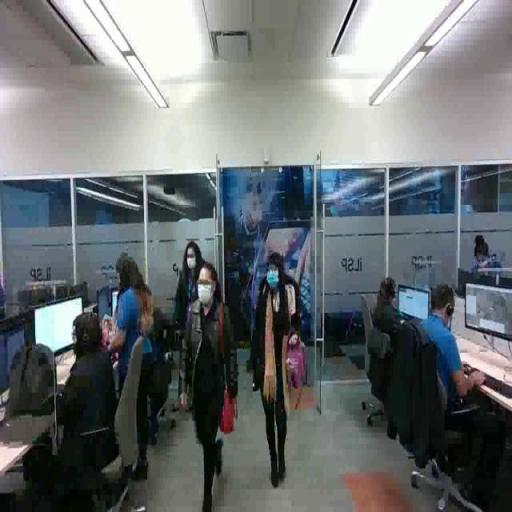person: (47, 312, 123, 512), (184, 258, 241, 512), (397, 285, 493, 427), (252, 256, 309, 493), (110, 257, 161, 487), (368, 273, 411, 393), (176, 238, 201, 413), (465, 232, 512, 294)
